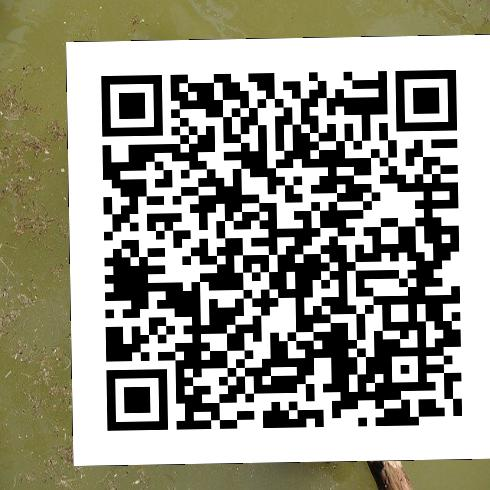qr_code: (66, 38, 489, 461)
